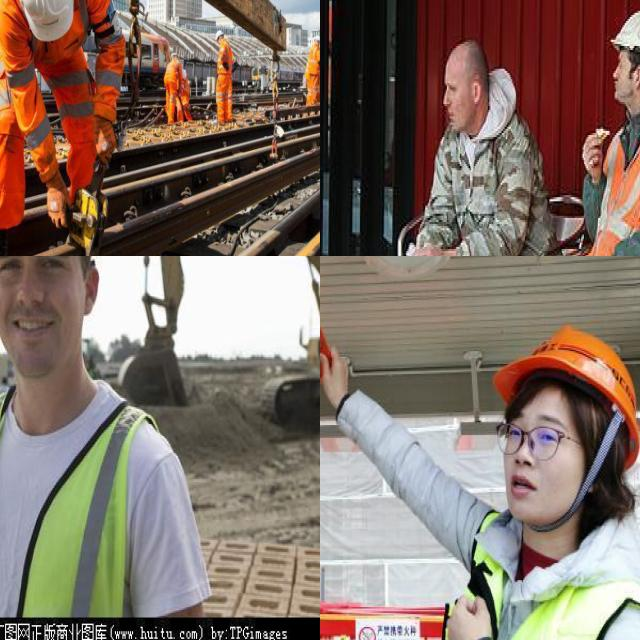No_Ear-Protection: (79, 256, 103, 322)
No_Glasses: (0, 256, 76, 291)
face_nomask: (0, 256, 93, 387), (496, 396, 576, 520), (438, 71, 493, 135), (609, 48, 640, 108)
glasses: (493, 420, 565, 466)
hand_glove: (40, 168, 75, 233)
hand_noglove: (438, 580, 500, 640), (581, 122, 607, 178), (412, 240, 463, 256)
head_helmet: (492, 326, 640, 439), (15, 0, 75, 43), (610, 8, 640, 77), (215, 29, 225, 41), (314, 34, 320, 45)
head_nohelmet: (434, 25, 489, 67)
person: (0, 256, 195, 622), (436, 338, 640, 640), (392, 43, 556, 256), (0, 0, 125, 256), (548, 6, 640, 256), (214, 30, 236, 127), (162, 51, 180, 124), (179, 66, 194, 126), (308, 35, 320, 105)
vest: (0, 370, 140, 616), (445, 496, 636, 640), (0, 0, 120, 150), (581, 114, 640, 256), (218, 41, 232, 77)
